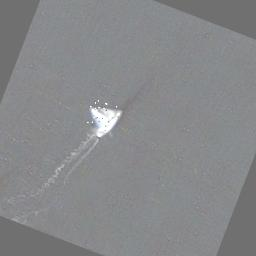boat: (82, 98, 124, 142)
